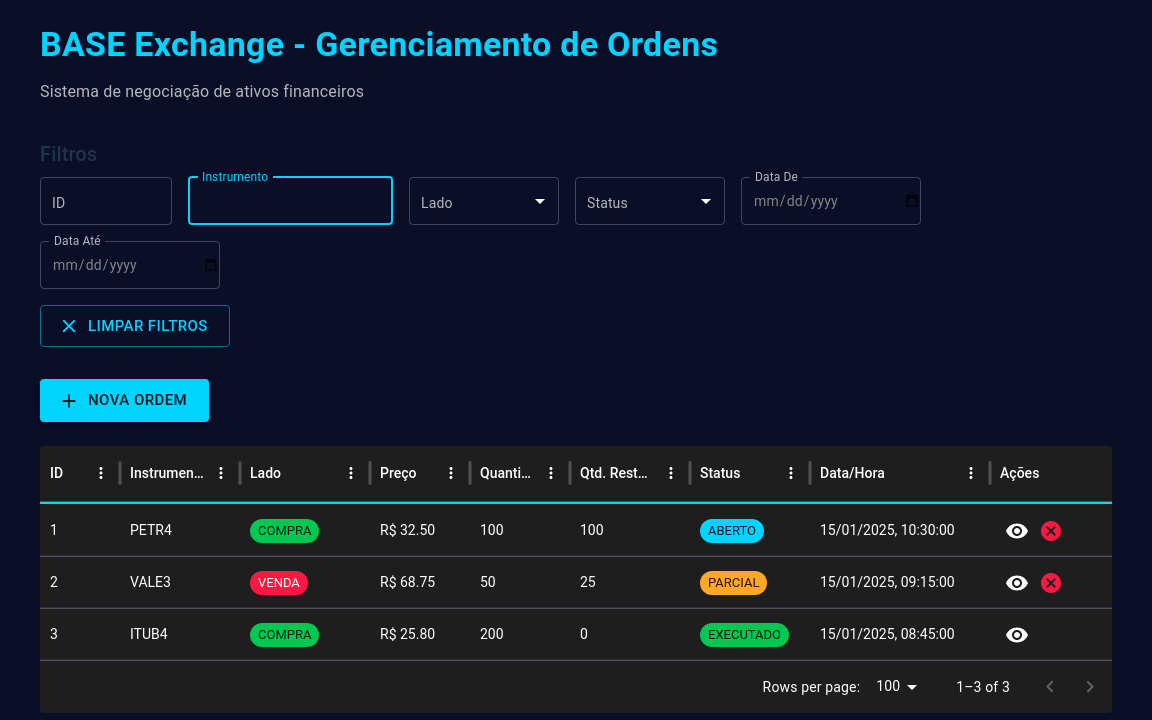
Scenario: OrderManagement - Filtros e Interações › filtra por instrumento
Type "ITUB4" into the field labelled "Instrumento" at (290, 201), box [188, 177, 393, 225]
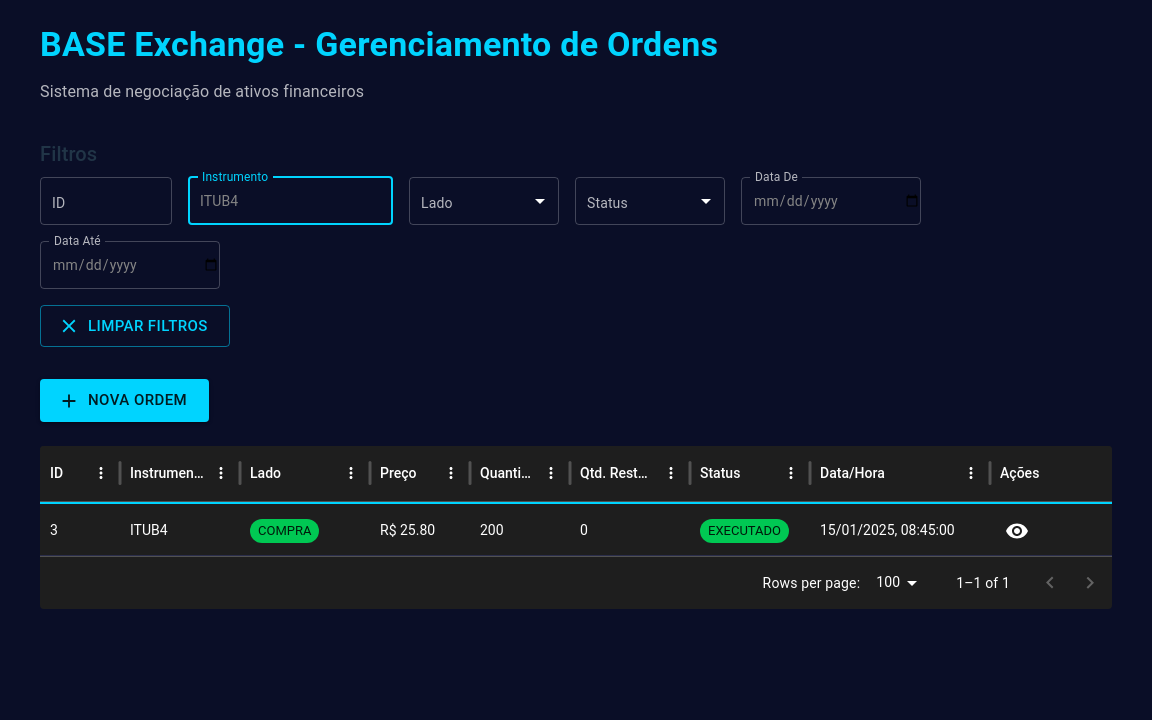
Check: the text "ITUB4" is shown, box [120, 504, 240, 556]
Check: the text "PETR4" is gone
